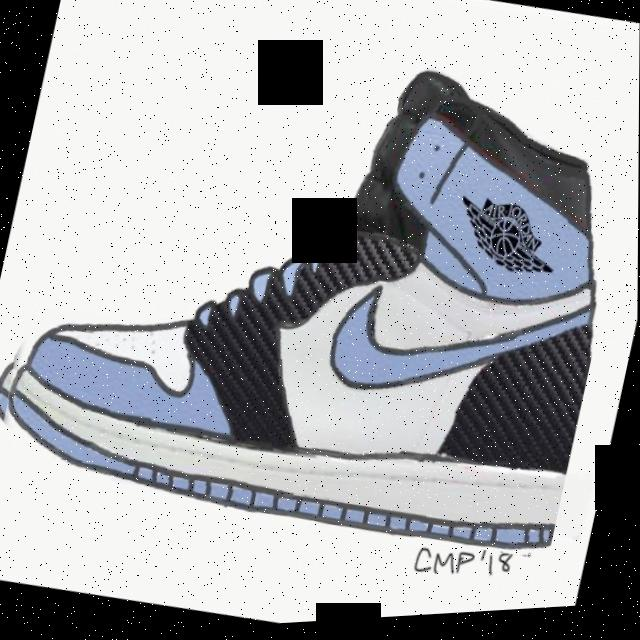shoe: (0, 0, 640, 592)
